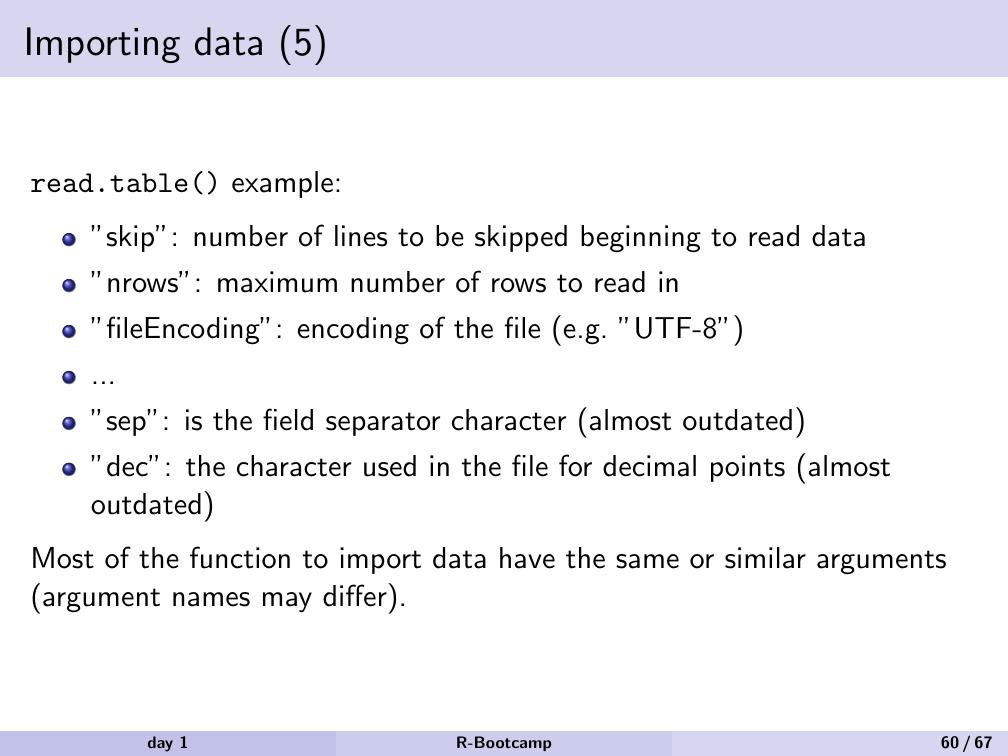Title: (15, 14, 339, 73)
